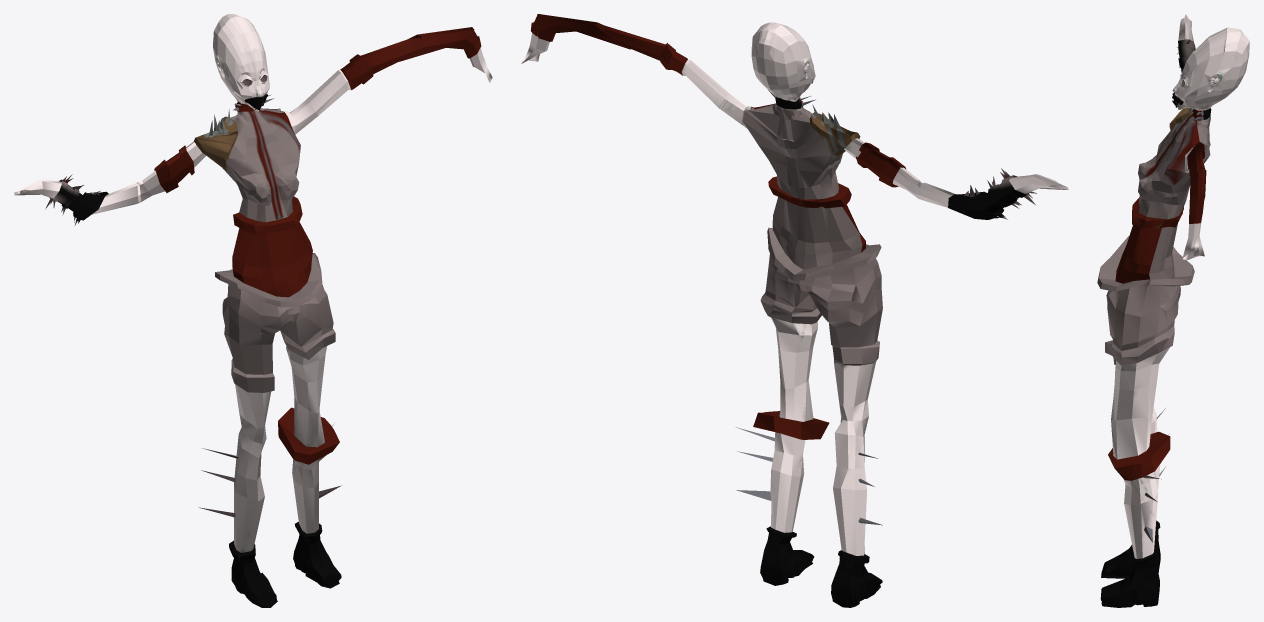
The model's file is pilii.fbx.
3 views of the same model, side by side, from view 1: azimuth 30°, elevation 25°; view 2: azimuth 150°, elevation 25°; view 3: azimuth 270°, elevation 25° (orthographic). The views are drawn at different scales.
Parts seen in each view (by area): view 1: accesorio1; view 2: accesorio1; view 3: accesorio1.
Boxes of the visible parts, x1=… form: accesorio1: x1=14, y1=14, x2=492, y2=607; accesorio1: x1=521, y1=14, x2=1068, y2=607; accesorio1: x1=1097, y1=14, x2=1249, y2=607.
Bounding box in the file's own units: 155 × 167 × 41.11.
1 material, 1 textured.
